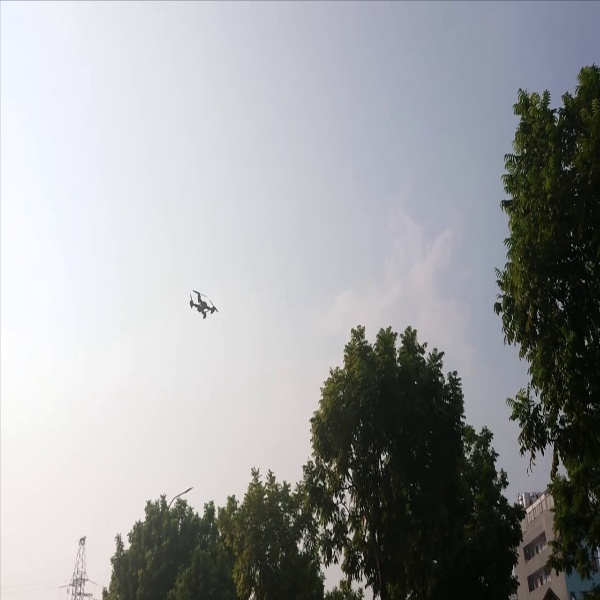drone: (167, 278, 236, 331)
